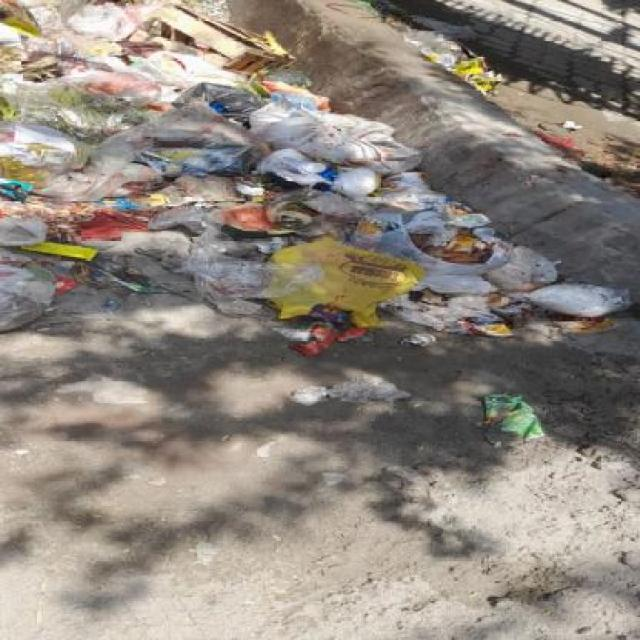garbage: (13, 11, 620, 455)
